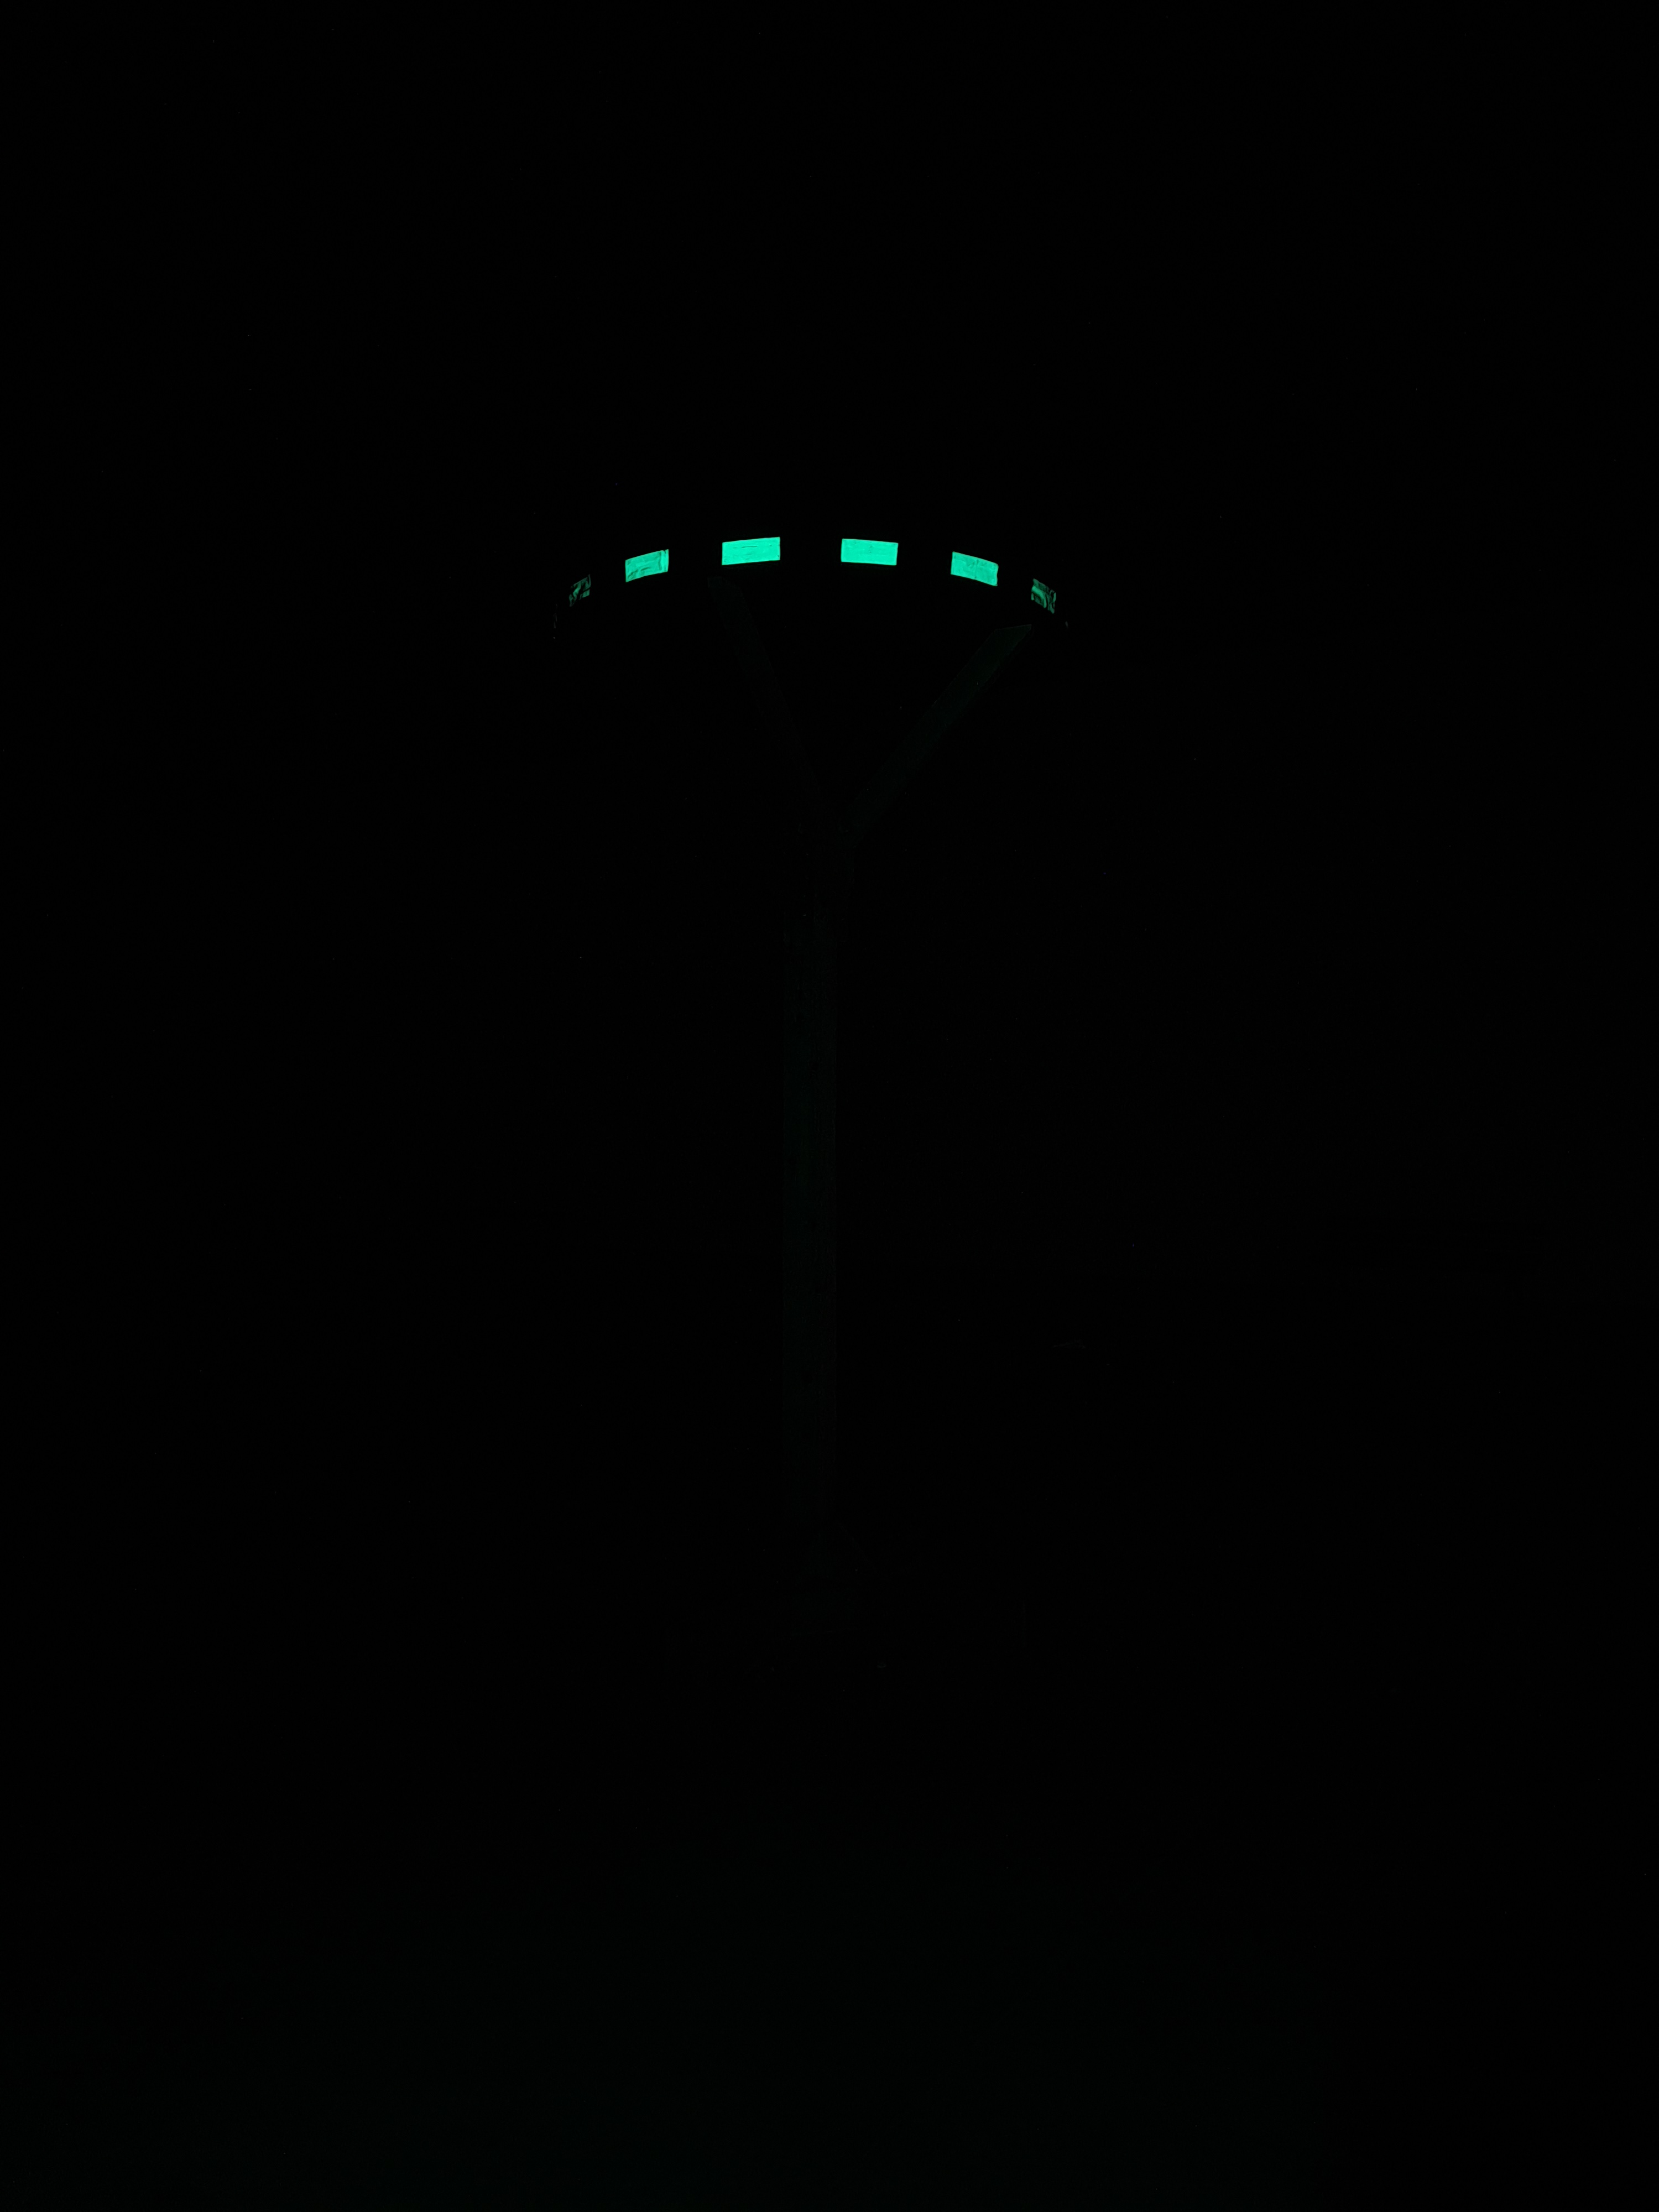hoop: (525, 529, 1072, 637)
